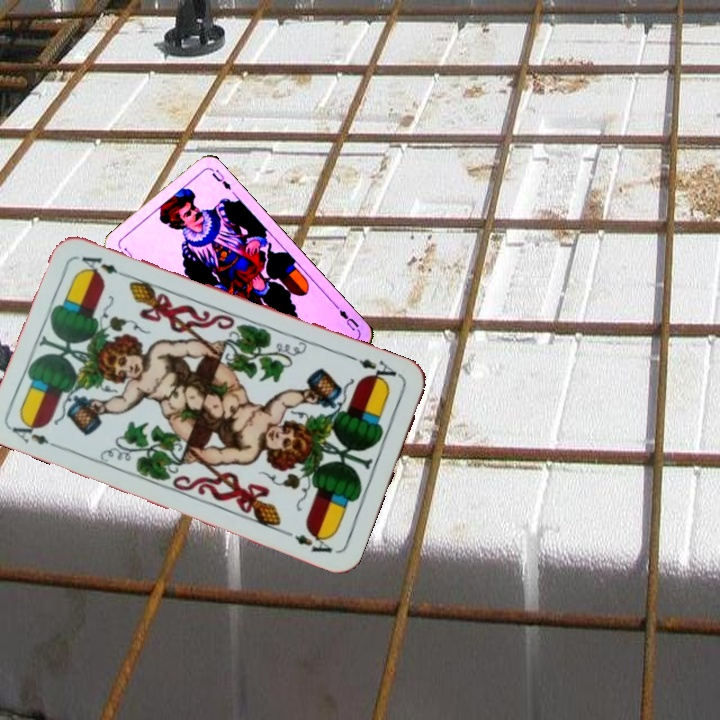EA: (8, 415, 65, 452), (347, 352, 404, 387)
EU: (332, 302, 364, 336)
